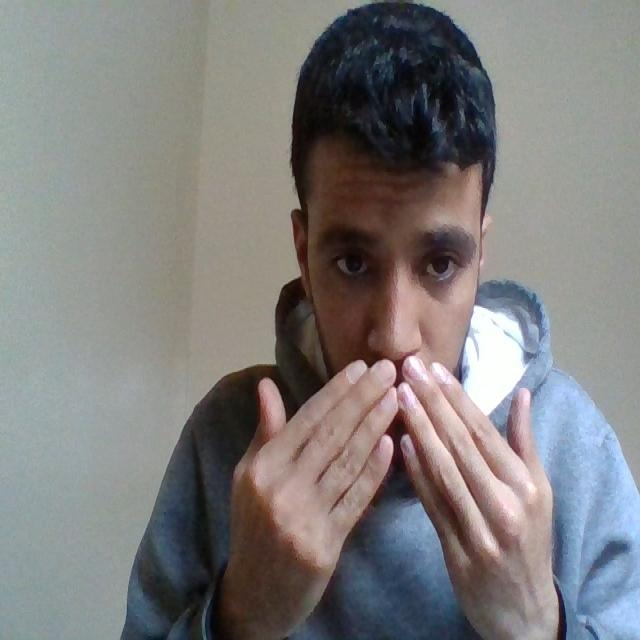Thanks: (212, 345, 578, 639)
